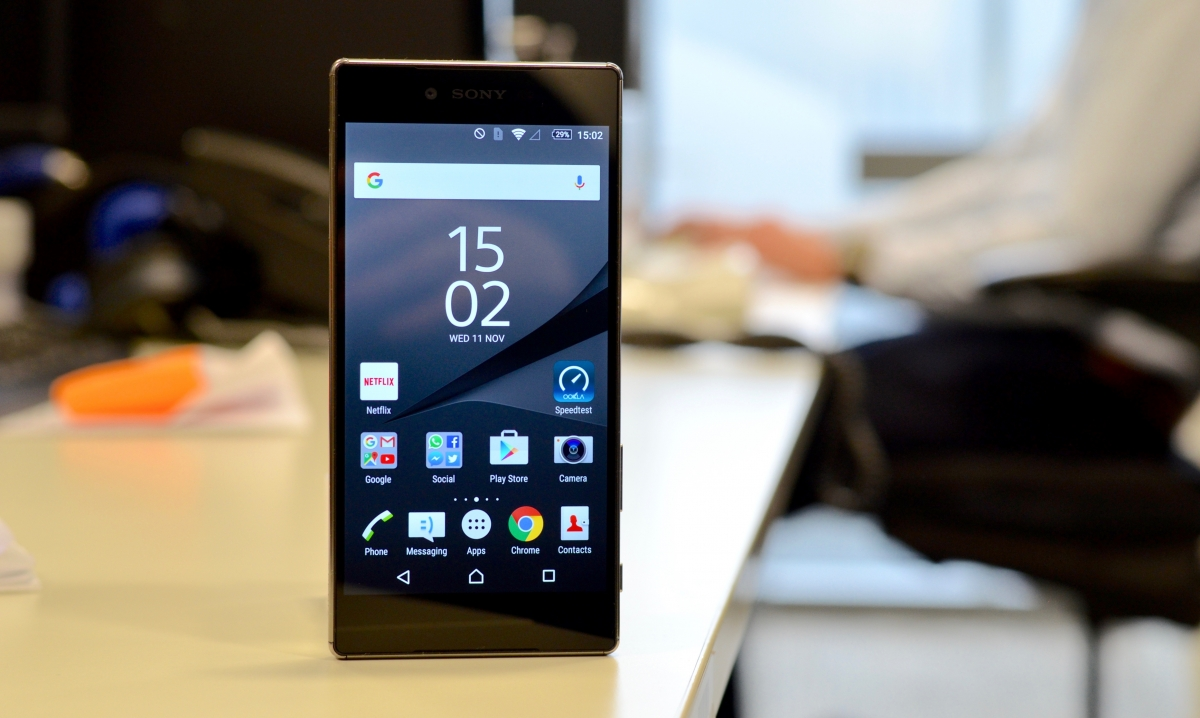smartphone: (328, 58, 623, 660)
